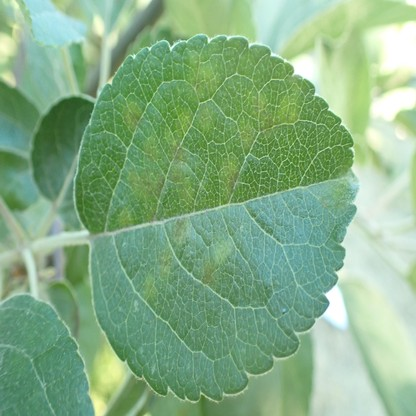scab: (116, 57, 297, 306), (318, 181, 350, 206)
